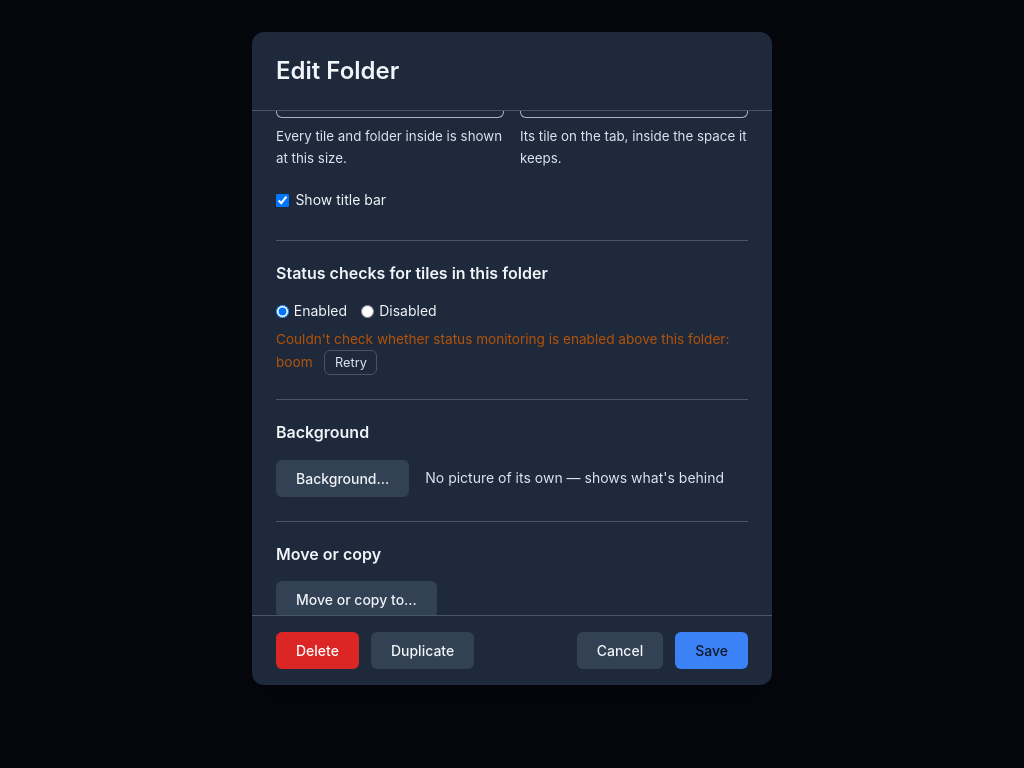
Test case: folder dialog: Enabled / Disabled › Retry after a failed read fetches again and then shows the result
(page scrolled)
Expected: the message is shown, x1=276 y1=329 x2=748 y2=375
Click the button "Retry": (351, 363) x1=324 y1=350 x2=378 y2=375
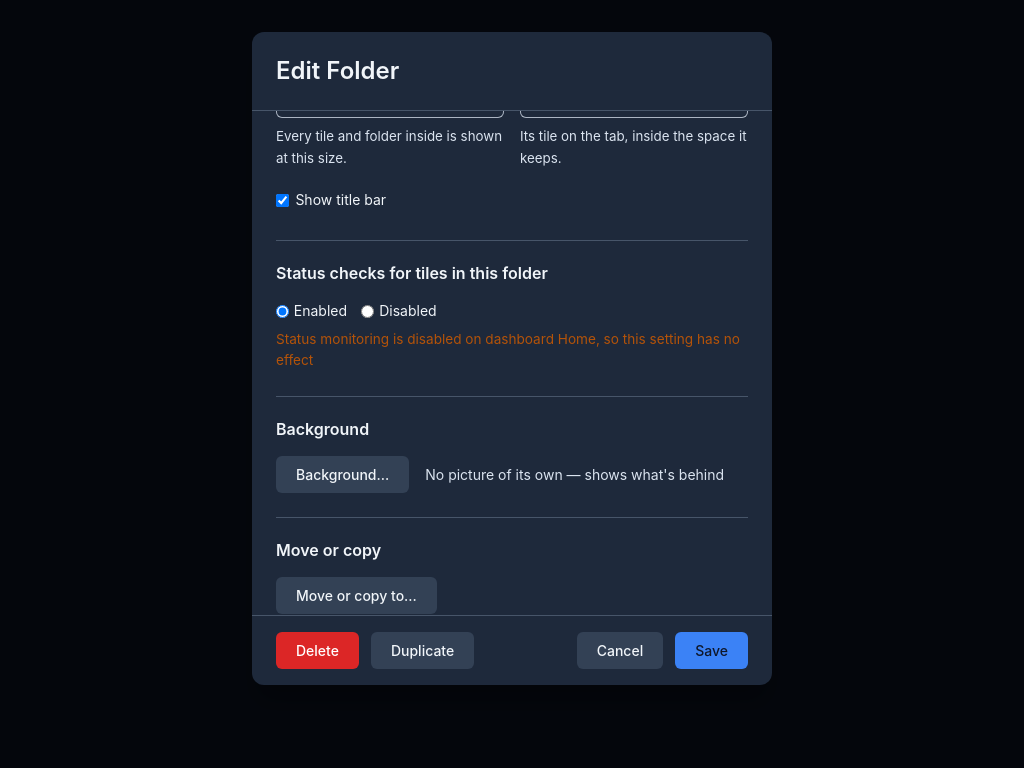
Result: the text "disabled on dashboard Home" is shown at x1=276 y1=331 x2=740 y2=368
Result: the message is gone
